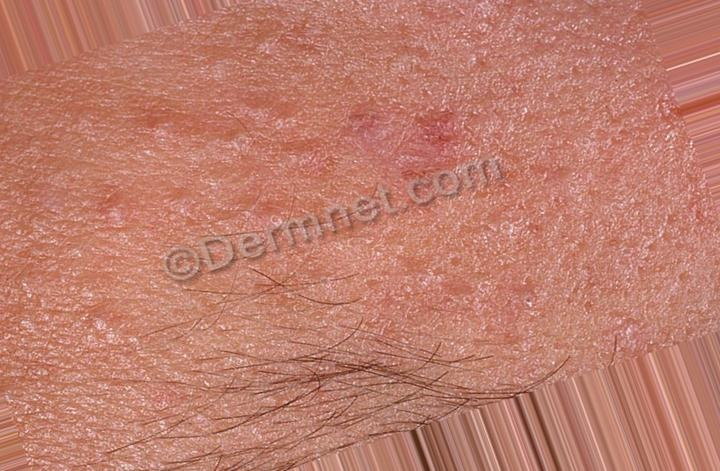Acne: (37, 87, 537, 265)
